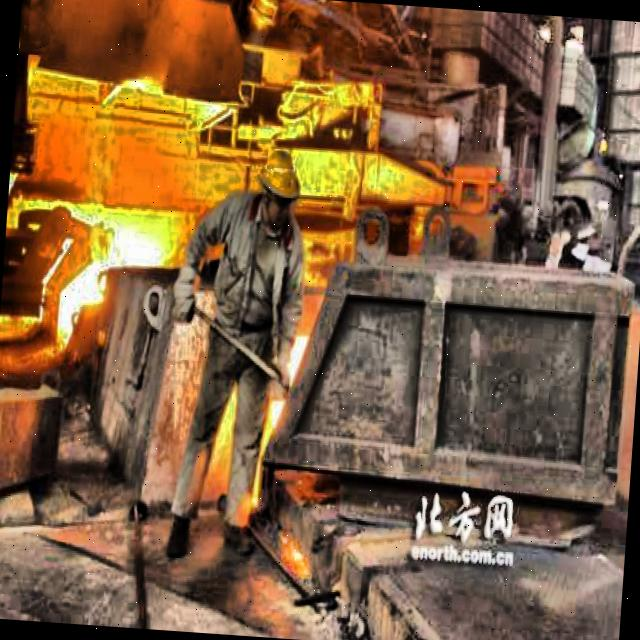helmet: (250, 144, 304, 230)
